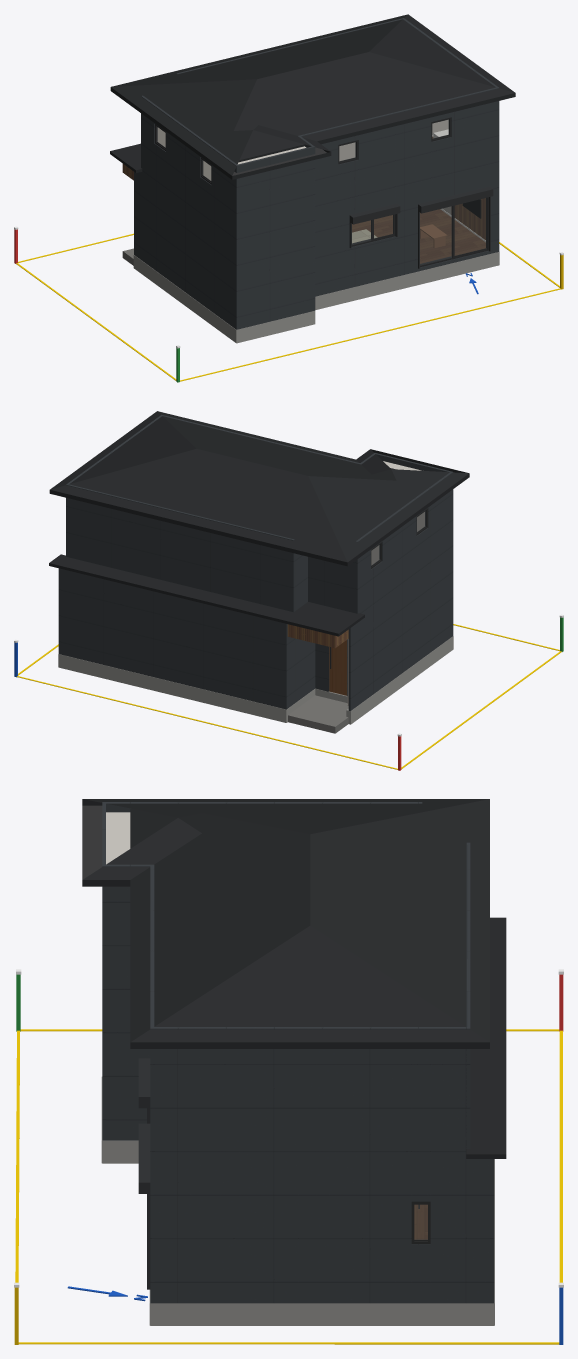
3 views of the same model, one above another, from view 1: azimuth 30°, elevation 25°; view 2: azimuth 150°, elevation 25°; view 3: azimuth 270°, elevation 25° (orthographic). The views are drawn at different scales.
Parts seen in each view (by area): view 1: siding, roof, found, glass, floor, shutter, frame, lotline, wall, accent; view 2: siding, roof, found, tile, lotline, door, woodceil; view 3: siding, roof, found, lotline, shutter, soffit, ceiling.
Boxes of the visible parts, x1=… form: siding: x1=134, y1=18, x2=499, y2=329; roof: x1=110, y1=14, x2=515, y2=179; found: x1=133, y1=252, x2=499, y2=343; glass: x1=157, y1=120, x2=485, y2=264; floor: x1=352, y1=136, x2=485, y2=263; shutter: x1=349, y1=186, x2=493, y2=268; frame: x1=155, y1=117, x2=488, y2=267; lotline: x1=16, y1=233, x2=560, y2=381; wall: x1=157, y1=119, x2=451, y2=214; accent: x1=451, y1=198, x2=485, y2=240; siding: x1=58, y1=414, x2=453, y2=710; roof: x1=49, y1=411, x2=469, y2=636; found: x1=58, y1=636, x2=453, y2=724; tile: x1=288, y1=695, x2=348, y2=733; lotline: x1=17, y1=624, x2=561, y2=769; door: x1=329, y1=640, x2=346, y2=695; woodceil: x1=287, y1=624, x2=348, y2=648; siding: x1=102, y1=802, x2=494, y2=1303; roof: x1=82, y1=799, x2=506, y2=1158; found: x1=101, y1=1077, x2=494, y2=1325; lotline: x1=15, y1=1029, x2=562, y2=1344; shutter: x1=138, y1=1058, x2=150, y2=1289; soffit: x1=82, y1=805, x2=102, y2=879; ceiling: x1=106, y1=812, x2=130, y2=864.
Size of the model in its own units: 14.14 by 6.95 by 10.42.
Materials: 31 (6 with a texture image).
